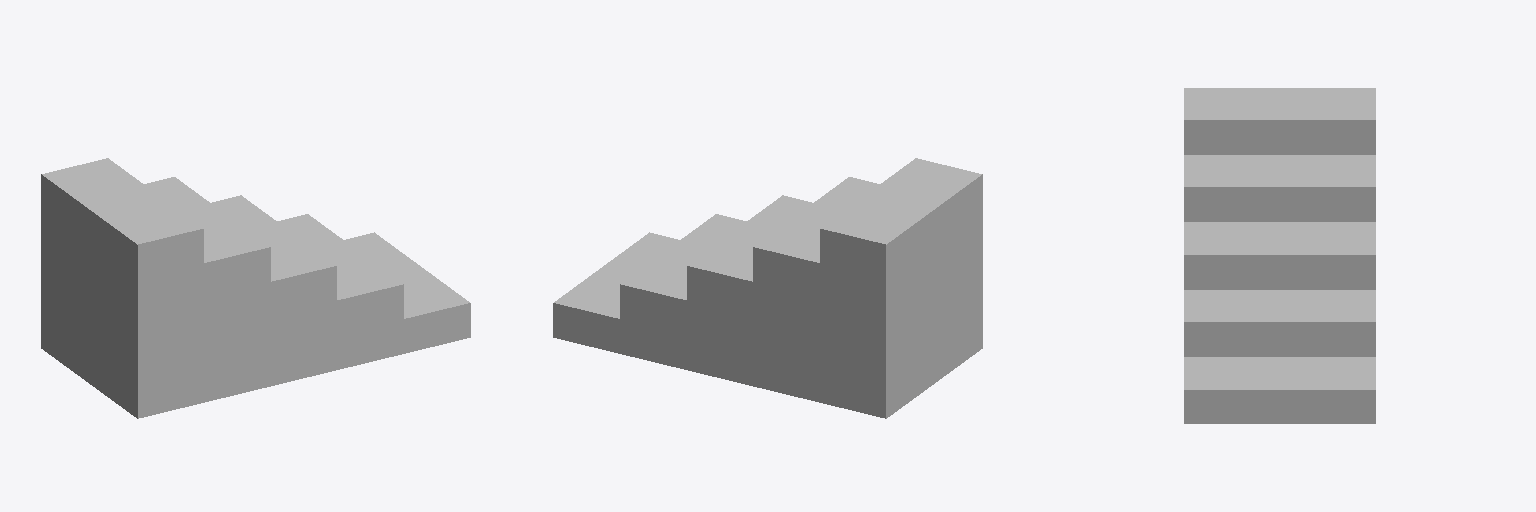
File: Stairs_Half.obj
3 views of the same model, side by side, from view 1: azimuth 30°, elevation 25°; view 2: azimuth 150°, elevation 25°; view 3: azimuth 270°, elevation 25° (orthographic).
Parts seen in each view (by area): view 1: Stairs_Half; view 2: Stairs_Half; view 3: Stairs_Half.
Part boxes in pixels (left/top/right/bottom): Stairs_Half: left=41, top=158, right=470, bottom=418; Stairs_Half: left=553, top=158, right=982, bottom=418; Stairs_Half: left=1184, top=88, right=1375, bottom=423.
Size of the model in its own units: 10 by 5 by 5.